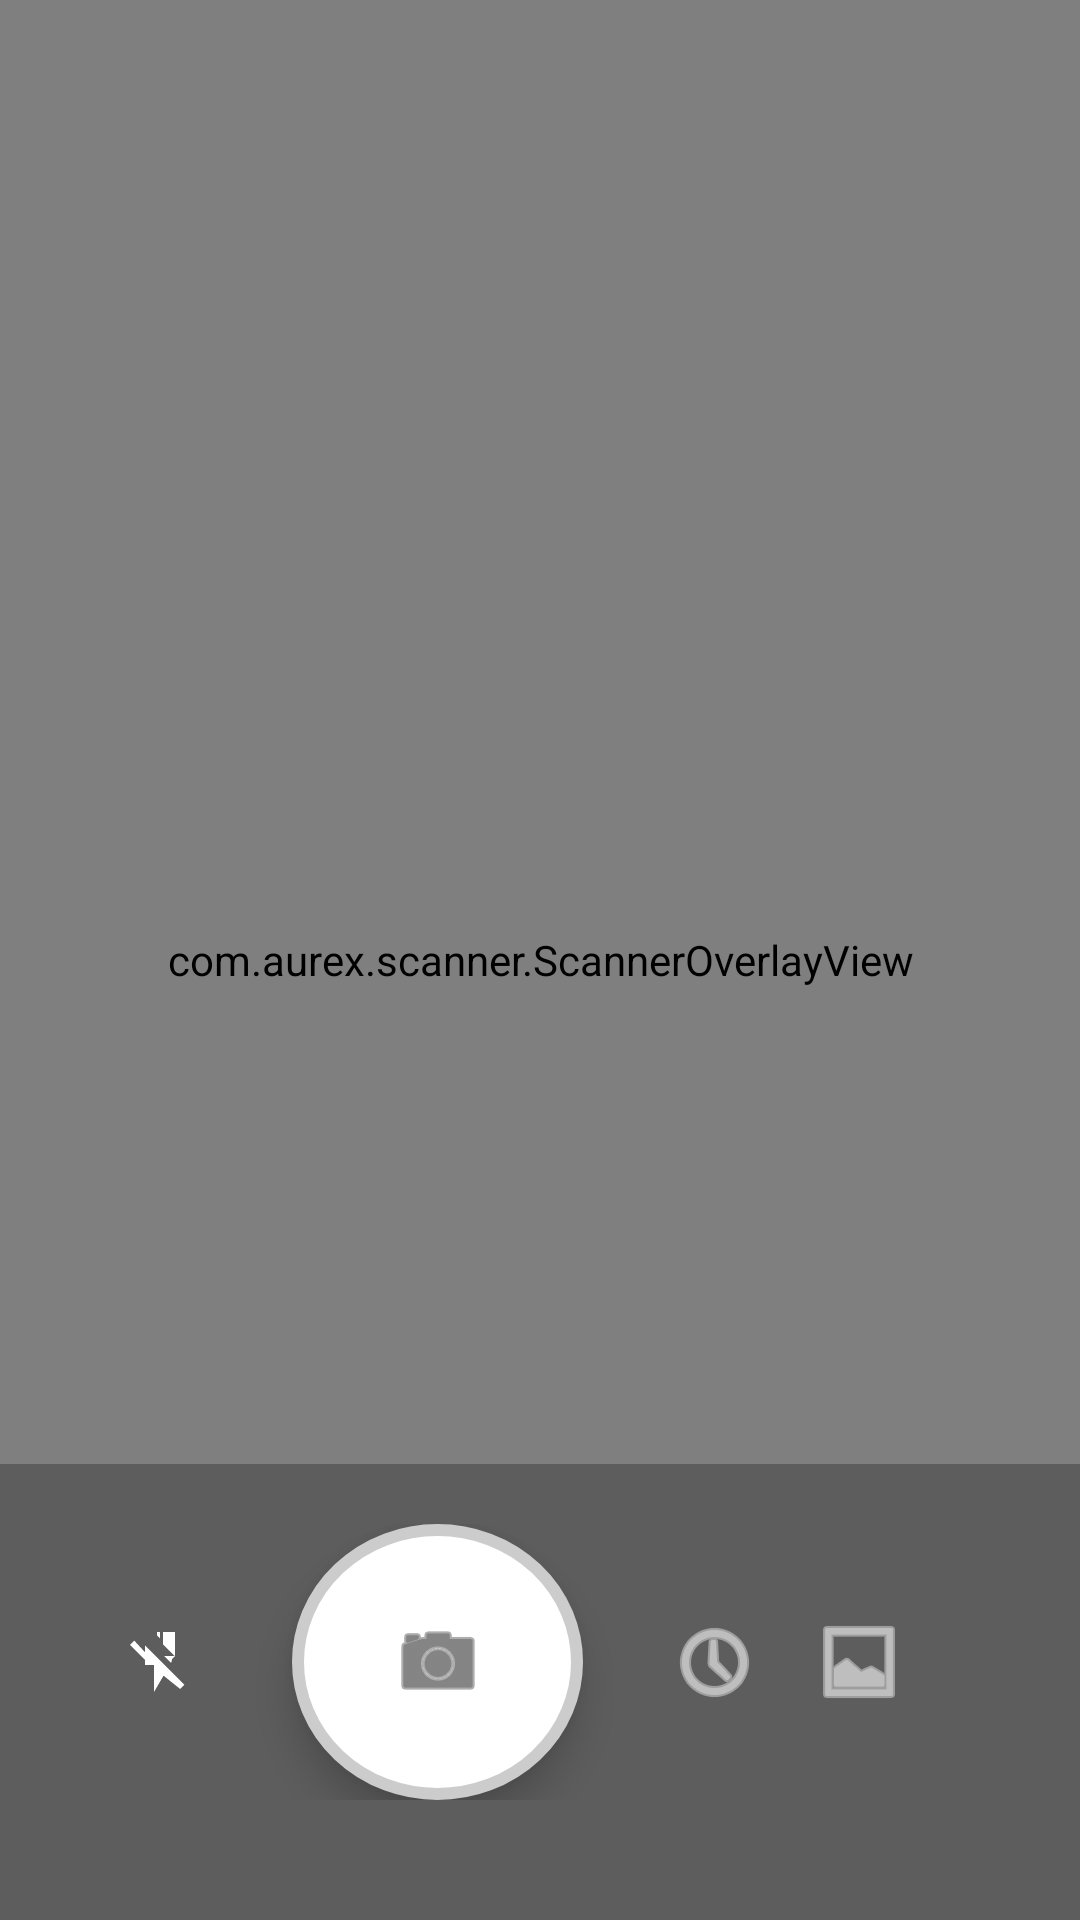

Icons on this 1080 × 1920 Android screen, each with the point to tap as point (x, y):
Capture Image: point (437, 1662)
Pick from Gallery: point (859, 1662)
Toggle Flash: point (157, 1662)
View History: point (714, 1662)
